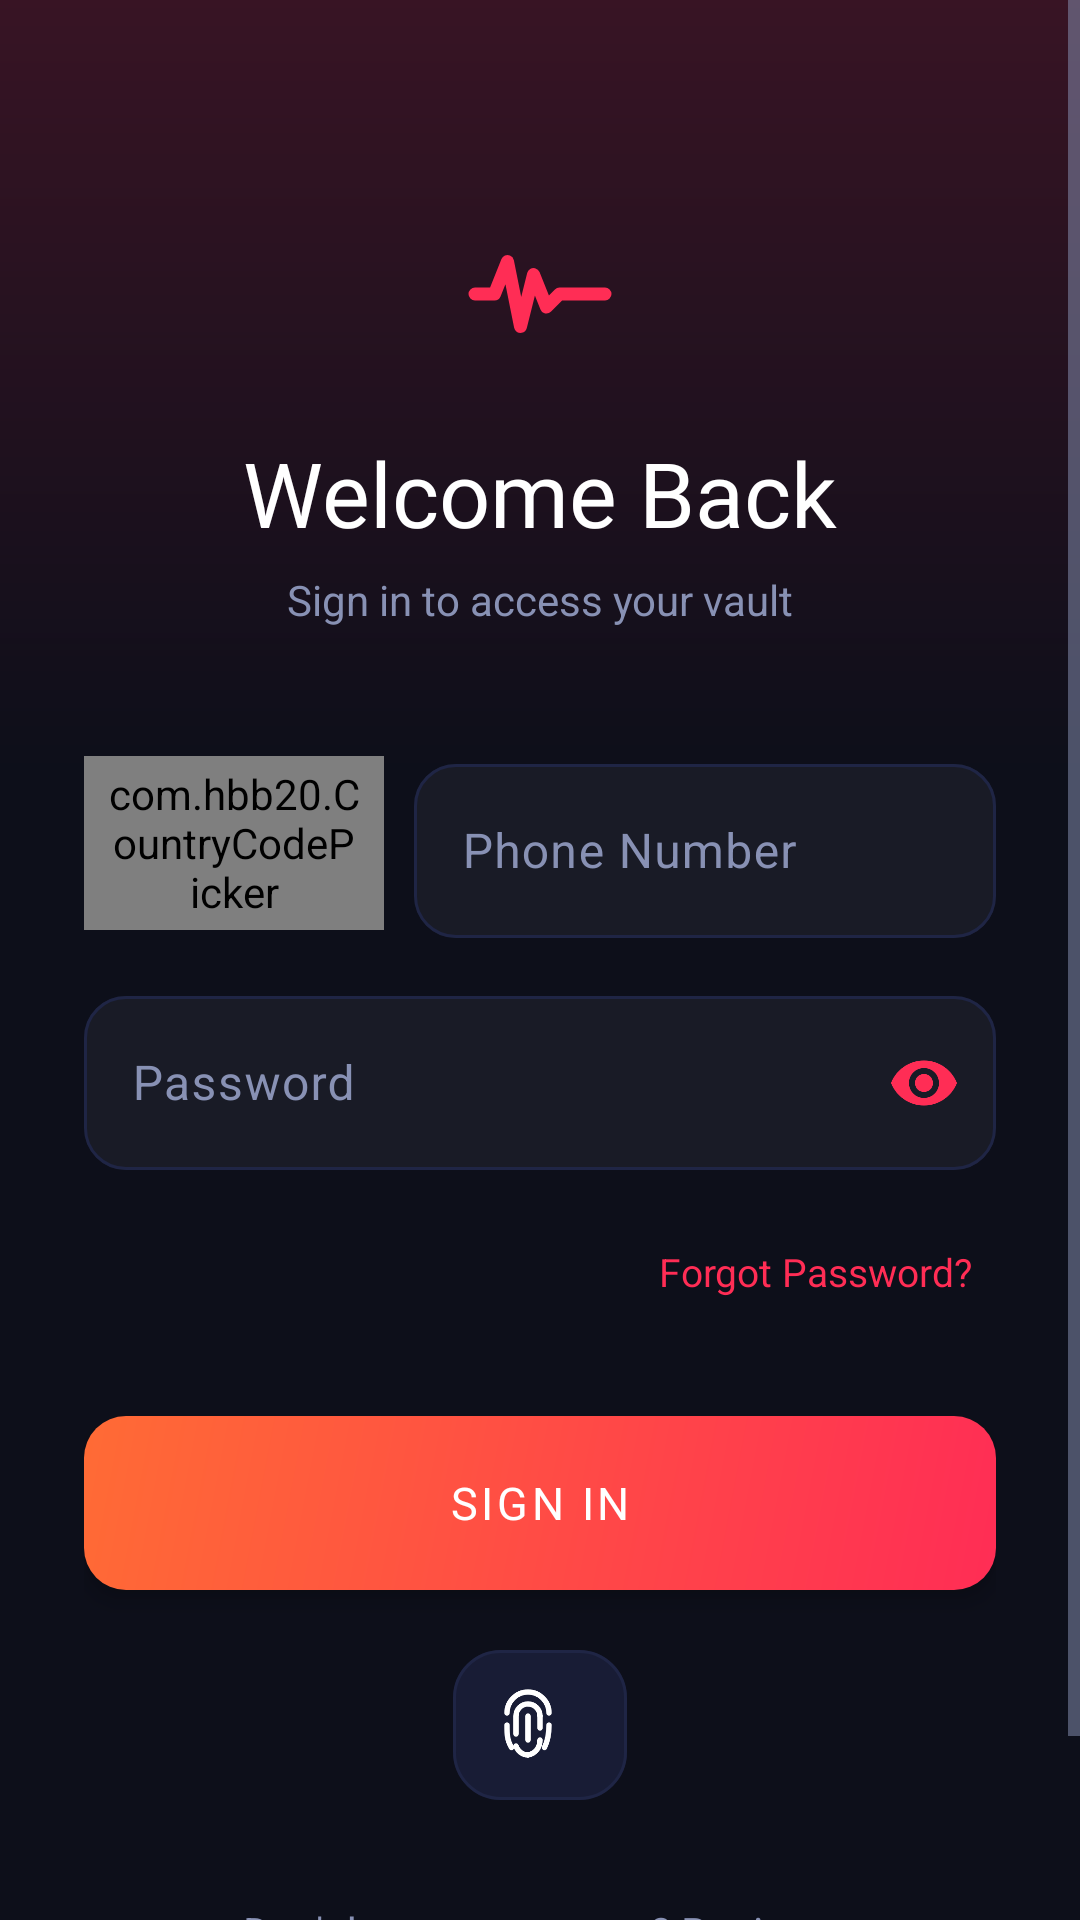

Named icons in this screenshot (1080 × 1920) and their centers, (x,y):
alive: (540,294)
Biometric login: (540,1725)
